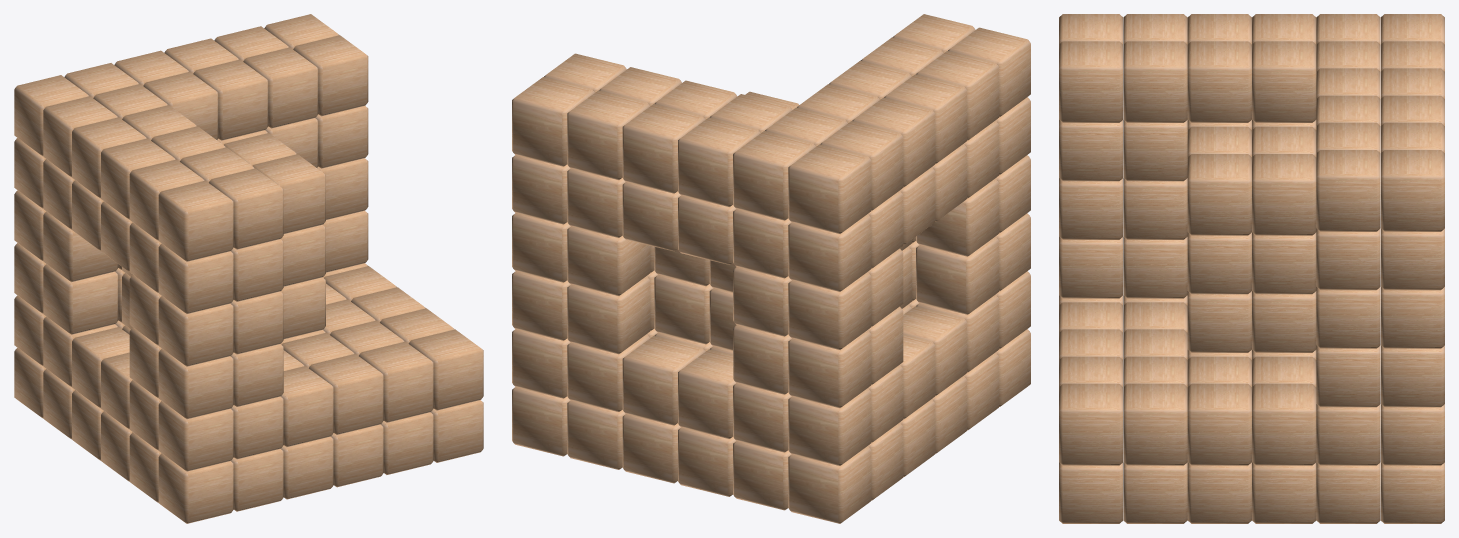
The model's file is level_98.fbx.
The picture shows the model from 3 angles, left to right: view 1: azimuth 30°, elevation 25°; view 2: azimuth 150°, elevation 25°; view 3: azimuth 270°, elevation 25°; orthographic projection. The views are drawn at different scales.
Visible parts, largest first — view 1: Cube.297, Cube.150, Cube.199, Cube.178, Cube.052, Cube.101, Cube.248, Cube.105, Cube.328, Cube.329, Cube.330, Cube.106 (+61 smaller); view 2: Cube.332, Cube.185, Cube.189, Cube.234, Cube.087, Cube.136, Cube.283, Cube.157, Cube.336, Cube.139, Cube.333, Cube.335 (+59 smaller); view 3: Cube.113, Cube.120, Cube.127, Cube.330, Cube.305, Cube.265, Cube.272, Cube.312, Cube.319, Cube.106, Cube.298, Cube.337 (+48 smaller).
Boxes of the visible parts, x1,y1,x2,y2 form: Cube.297: [158, 180, 233, 261]; Cube.150: [158, 348, 233, 419]; Cube.199: [158, 296, 233, 366]; Cube.178: [43, 264, 118, 334]; Cube.052: [158, 453, 233, 523]; Cube.101: [158, 401, 233, 471]; Cube.248: [158, 243, 233, 313]; Cube.105: [359, 341, 433, 422]; Cube.328: [193, 59, 268, 140]; Cube.329: [243, 47, 318, 128]; Cube.330: [293, 35, 368, 116]; Cube.106: [408, 329, 483, 410]; Cube.332: [788, 144, 871, 233]; Cube.185: [788, 330, 871, 407]; Cube.189: [567, 276, 650, 354]; Cube.234: [788, 272, 871, 349]; Cube.087: [788, 446, 871, 523]; Cube.136: [788, 388, 871, 465]; Cube.283: [788, 214, 871, 291]; Cube.157: [916, 236, 998, 314]; Cube.336: [567, 90, 649, 179]; Cube.139: [622, 336, 705, 425]; Cube.333: [733, 131, 815, 220]; Cube.335: [622, 104, 705, 193]; Cube.113: [1123, 383, 1187, 465]; Cube.120: [1187, 383, 1251, 465]; Cube.127: [1252, 383, 1316, 465]; Cube.330: [1316, 150, 1380, 231]; Cube.305: [1123, 41, 1187, 122]; Cube.265: [1187, 154, 1251, 235]; Cube.272: [1252, 154, 1316, 235]; Cube.312: [1187, 41, 1251, 122]; Cube.319: [1252, 41, 1316, 122]; Cube.106: [1059, 383, 1122, 465]; Cube.298: [1059, 41, 1122, 122]; Cube.337: [1381, 150, 1444, 231].
Bounding box in the file's own units: 12.05 × 12.07 × 12.05.
